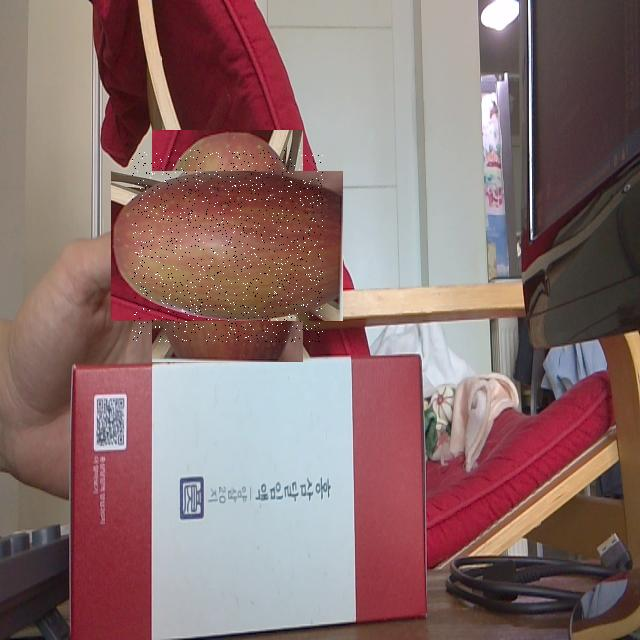apple: (132, 150, 323, 342)
